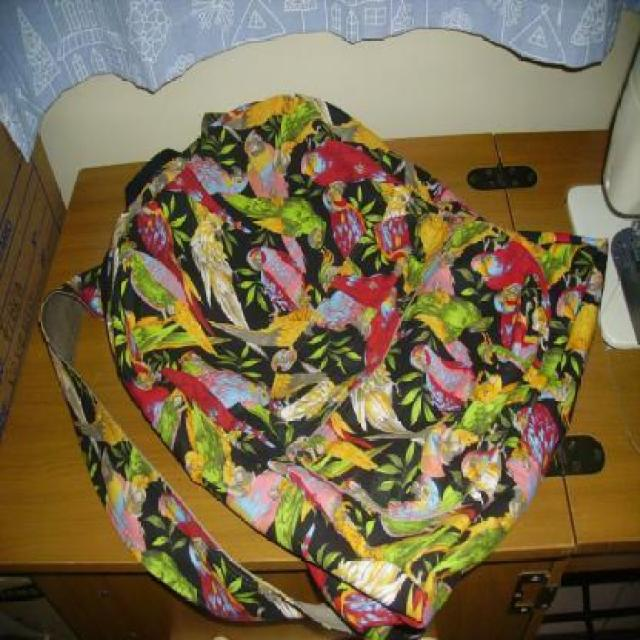backpack: (18, 44, 624, 640)
